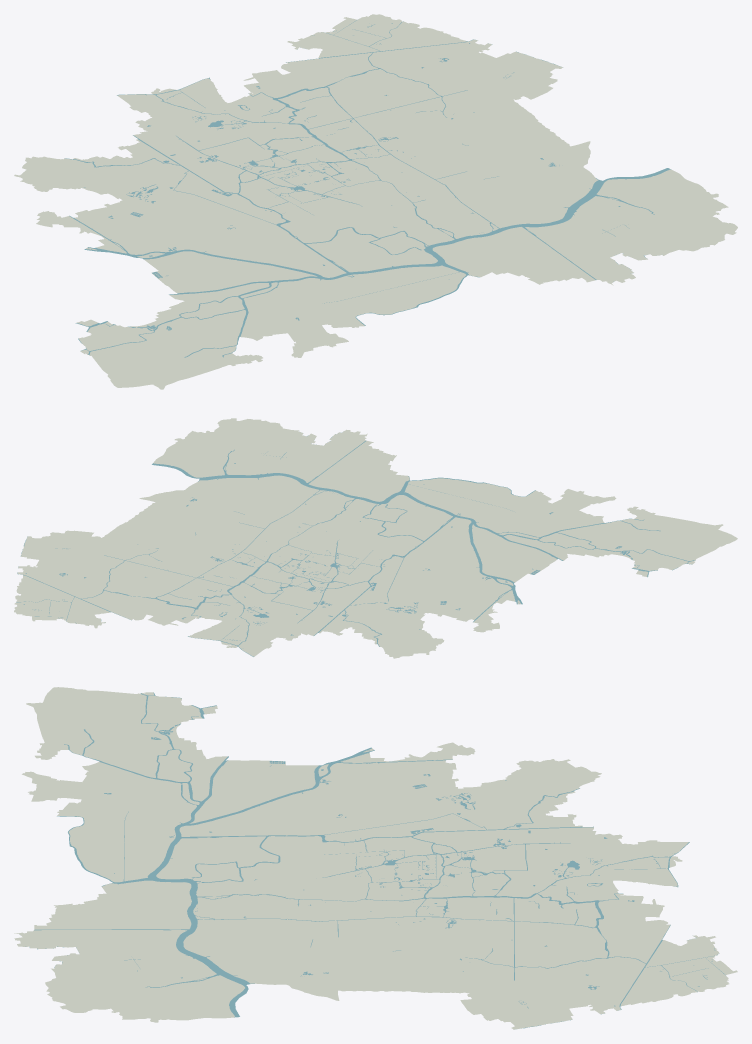
3 renders of one model, top to bottom at view 1: azimuth 30°, elevation 25°; view 2: azimuth 150°, elevation 25°; view 3: azimuth 270°, elevation 25°, orthographic. The views are drawn at different scales.
Parts seen in each view (by area): view 1: ground-proxy, mapped-water; view 2: ground-proxy, mapped-water; view 3: ground-proxy, mapped-water.
Part boxes in pixels (x1=…): ground-proxy: x1=14, y1=14, x2=737, y2=389; mapped-water: x1=65, y1=20, x2=671, y2=357; ground-proxy: x1=14, y1=418, x2=737, y2=658; mapped-water: x1=16, y1=432, x2=694, y2=656; ground-proxy: x1=14, y1=687, x2=737, y2=1029; mapped-water: x1=25, y1=692, x2=725, y2=1028.
Bounding box in the file's own units: 33184 × 0 × 29628.
